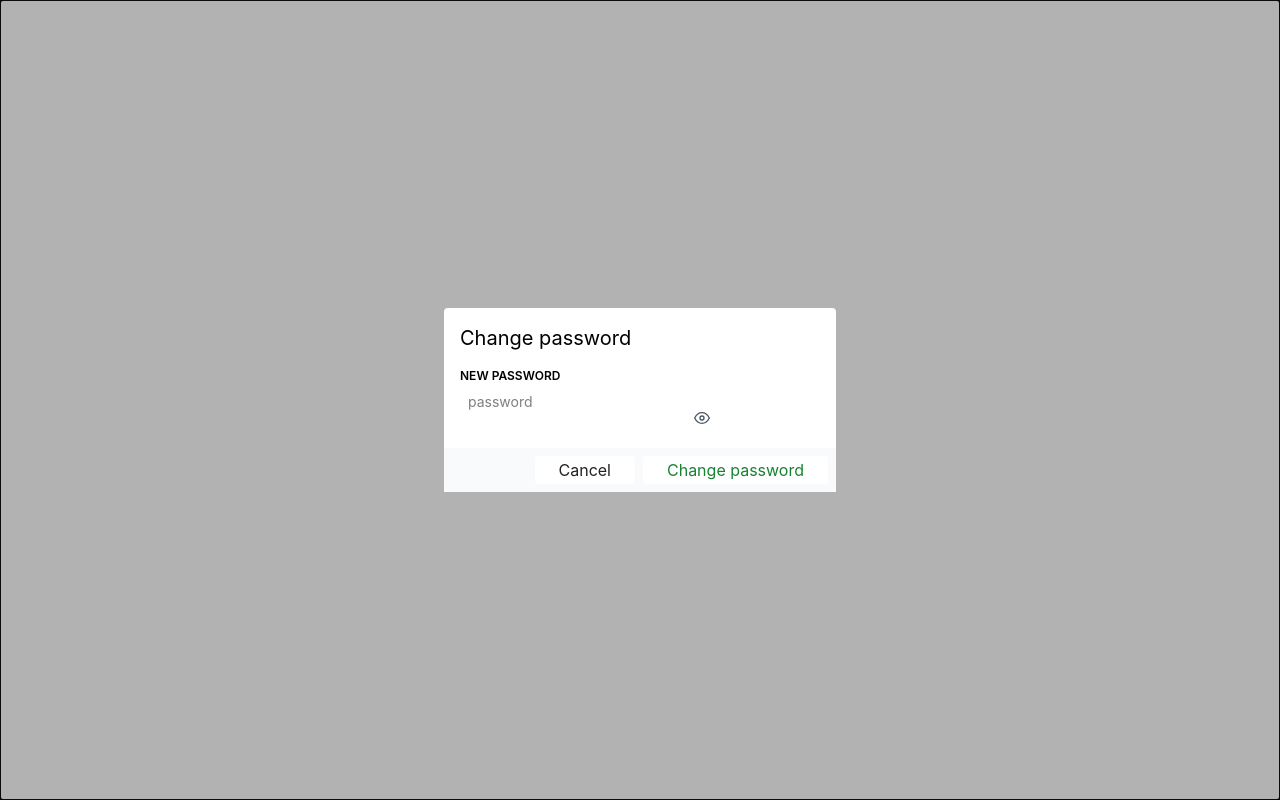
Test case: ChangePasswordModal › Retry After Failure › clears error message when retrying after failure
// First failed attempt
Type "wrongPassword" into the password field labelled "New password".
click(589, 402); type("wrongPassword")  # box x1=460 y1=388 x2=718 y2=416
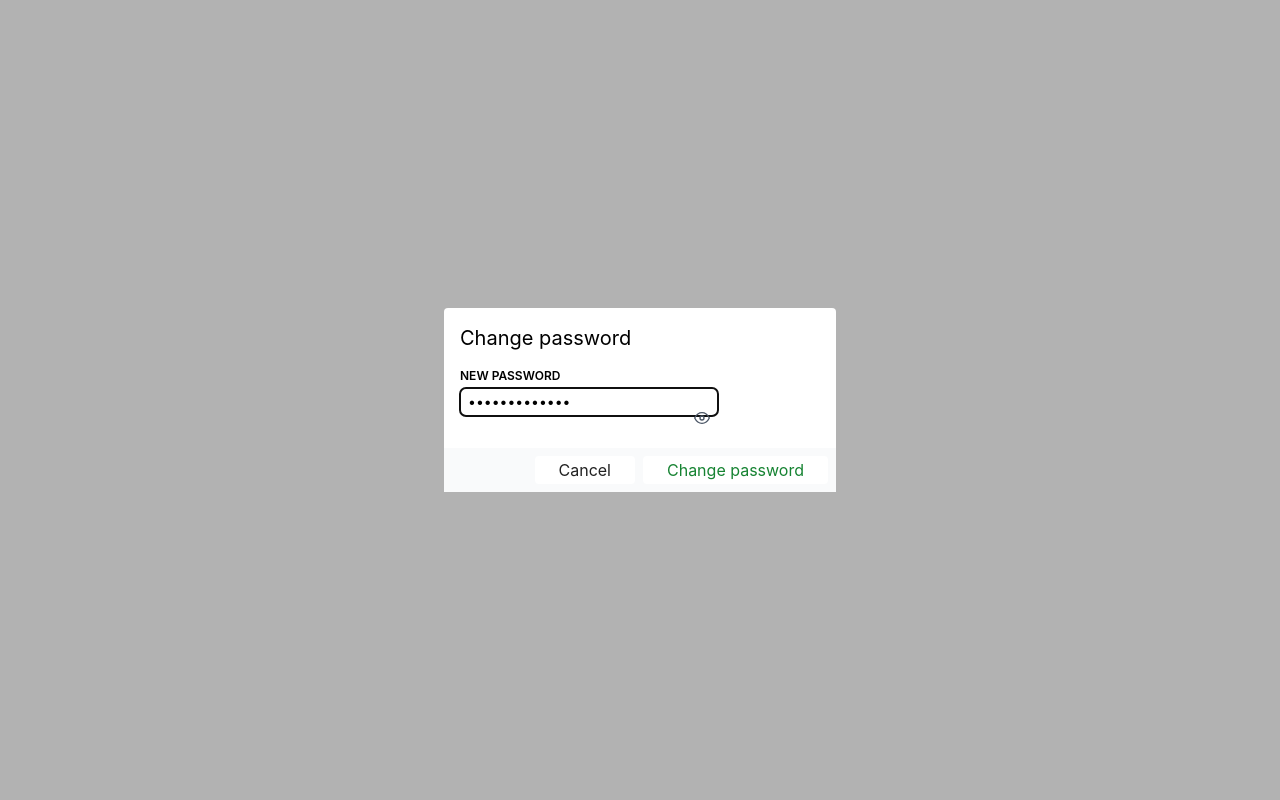
Click the button "Change password".
click(736, 470)  # box x1=643 y1=456 x2=828 y2=484
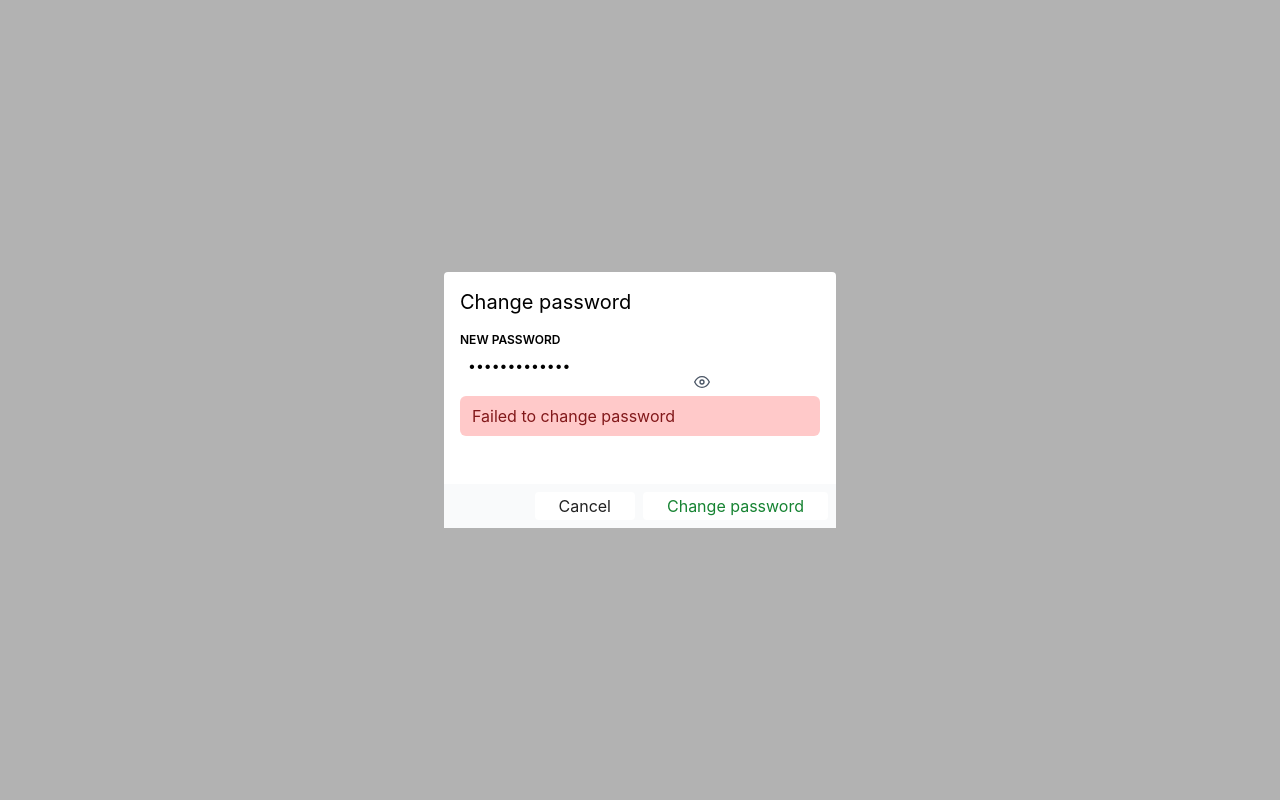
Now the text "Failed to change password" is shown, box x1=460 y1=396 x2=820 y2=436
// Clear and retry with correct password
Type "correctPassword" into the password field labelled "New password".
click(589, 366); type("correctPassword")  # box x1=460 y1=352 x2=718 y2=380
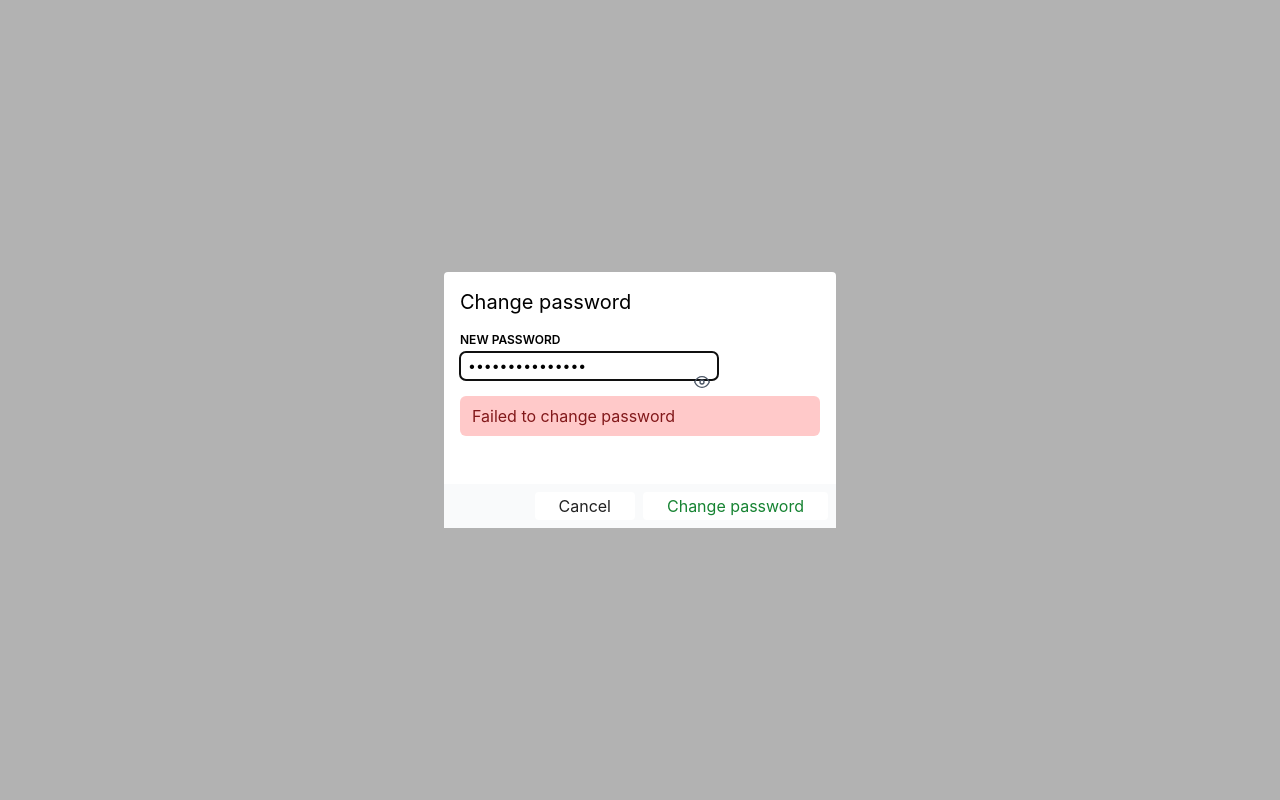
Click the button "Change password".
click(736, 506)  # box x1=643 y1=492 x2=828 y2=520
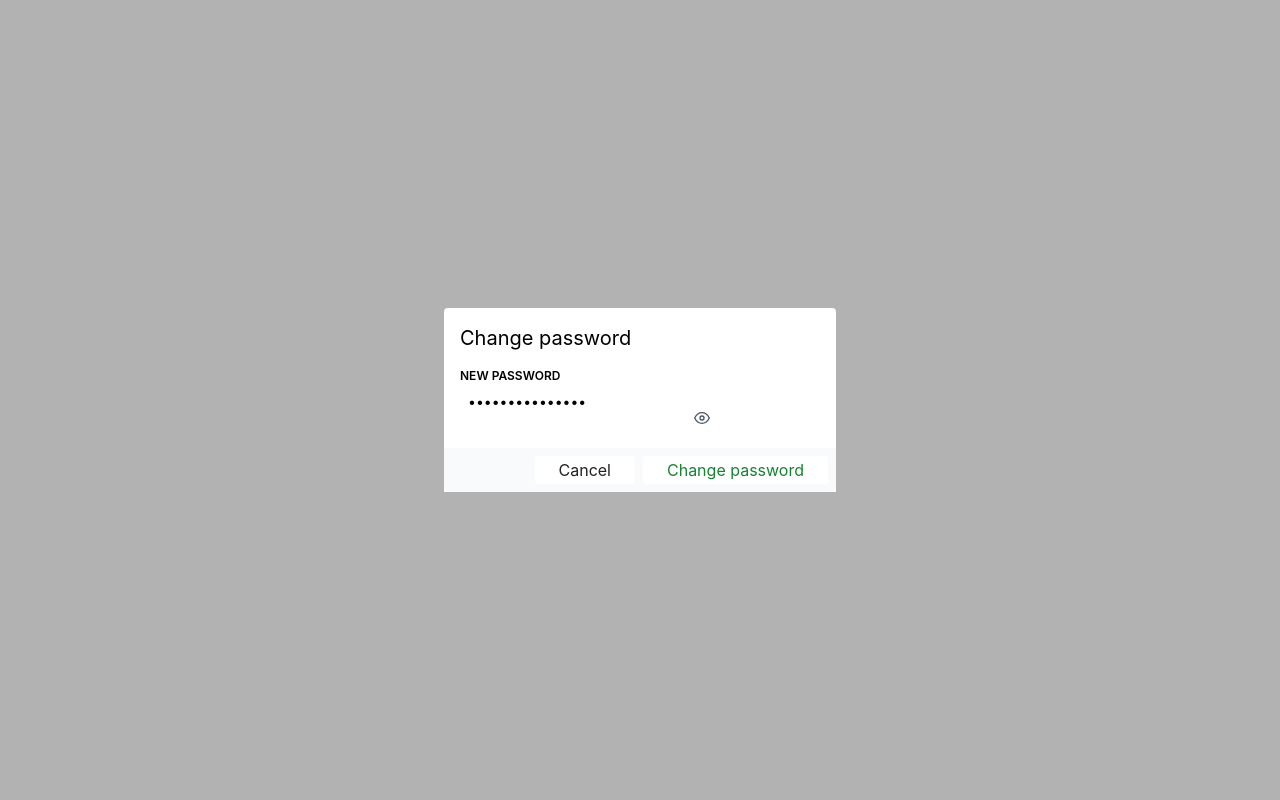
Now the text "Failed to change password" is gone
